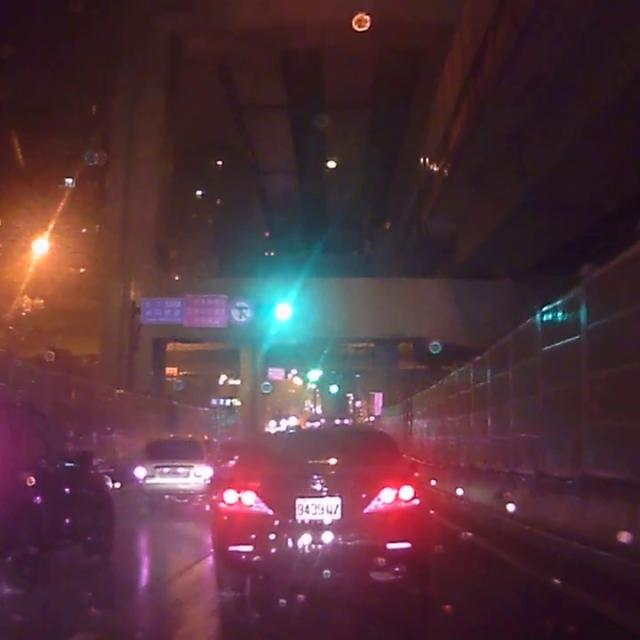Car: (209, 421, 431, 594), (0, 406, 114, 585), (132, 436, 207, 498)
